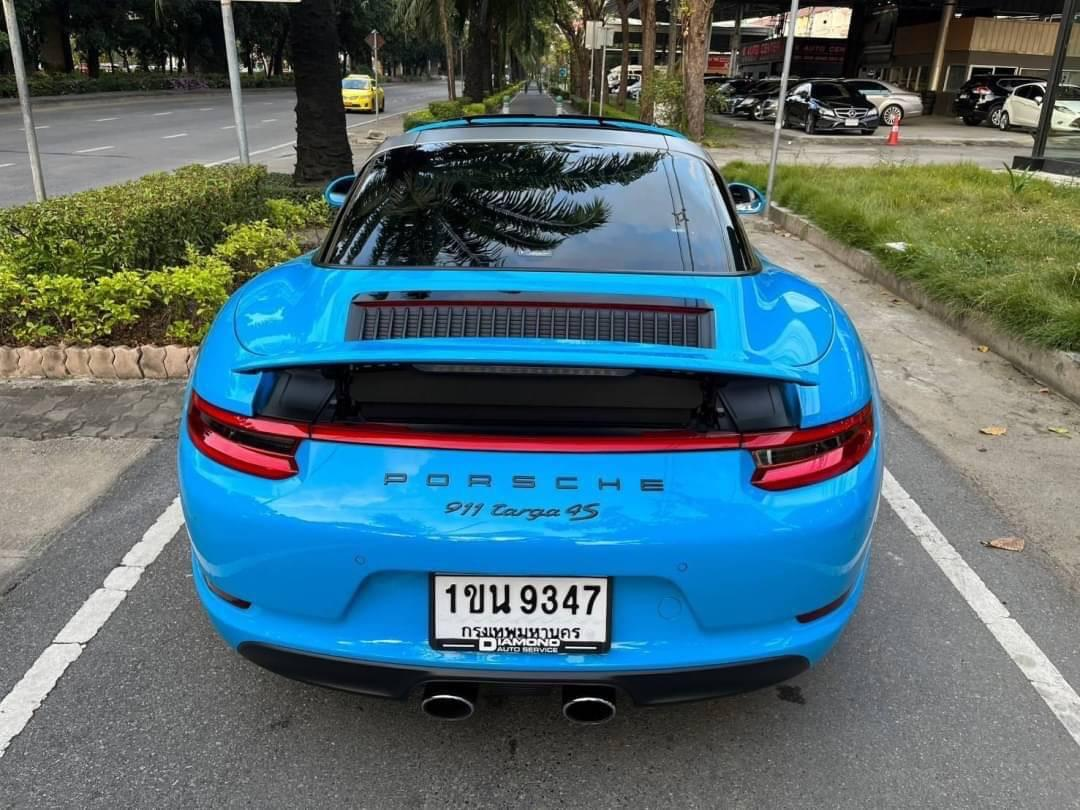license-plate: (423, 559, 621, 668)
